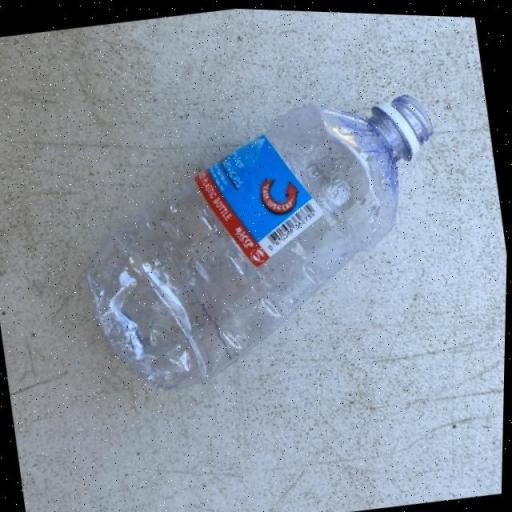plastic: (62, 73, 470, 408)
